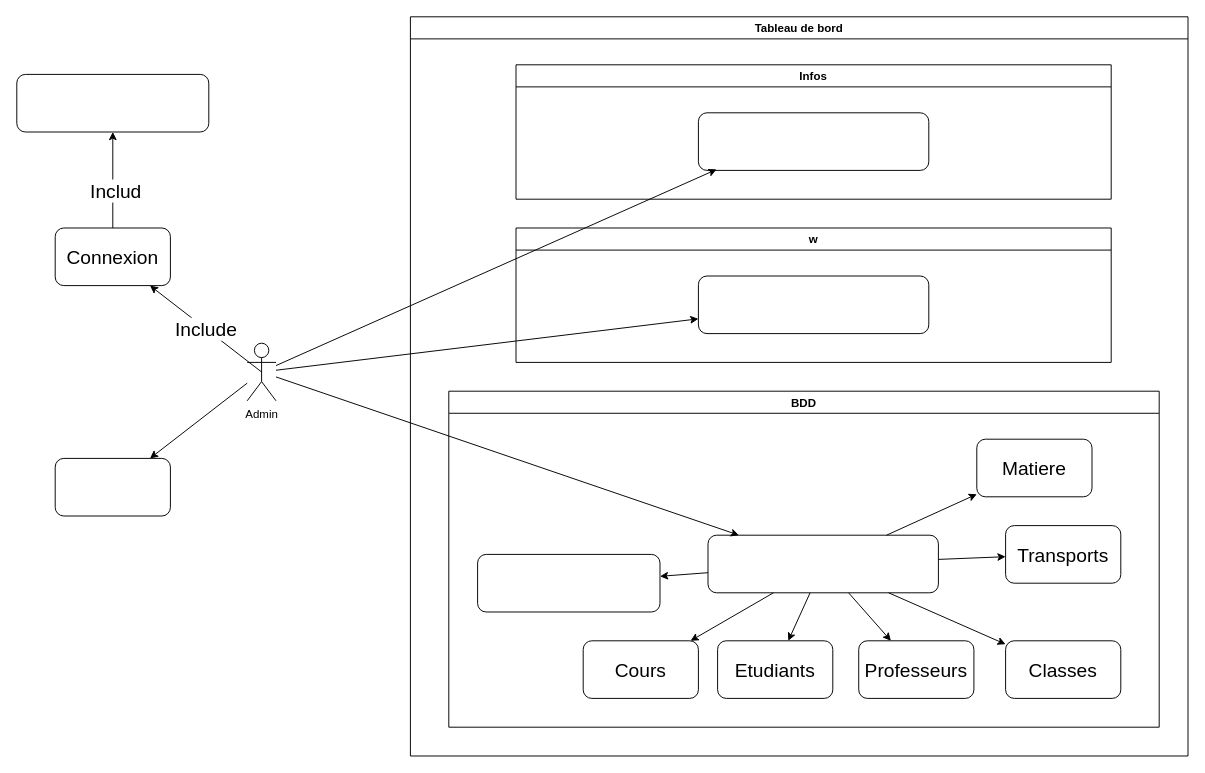
Some shapes in this 1205 by 773 pixel diagram are drawn without their labels. Each missing label, with the centre of its shape:
"Authentification" belongs at (112,102).
"Billets de retards" belongs at (568,582).
"Deconnexion" belongs at (112,486).
"Gérer la BDD" belongs at (822,563).
"Voir les flux RSS" belongs at (813,141).
"Voir les stats étudiants" belongs at (813,304).
